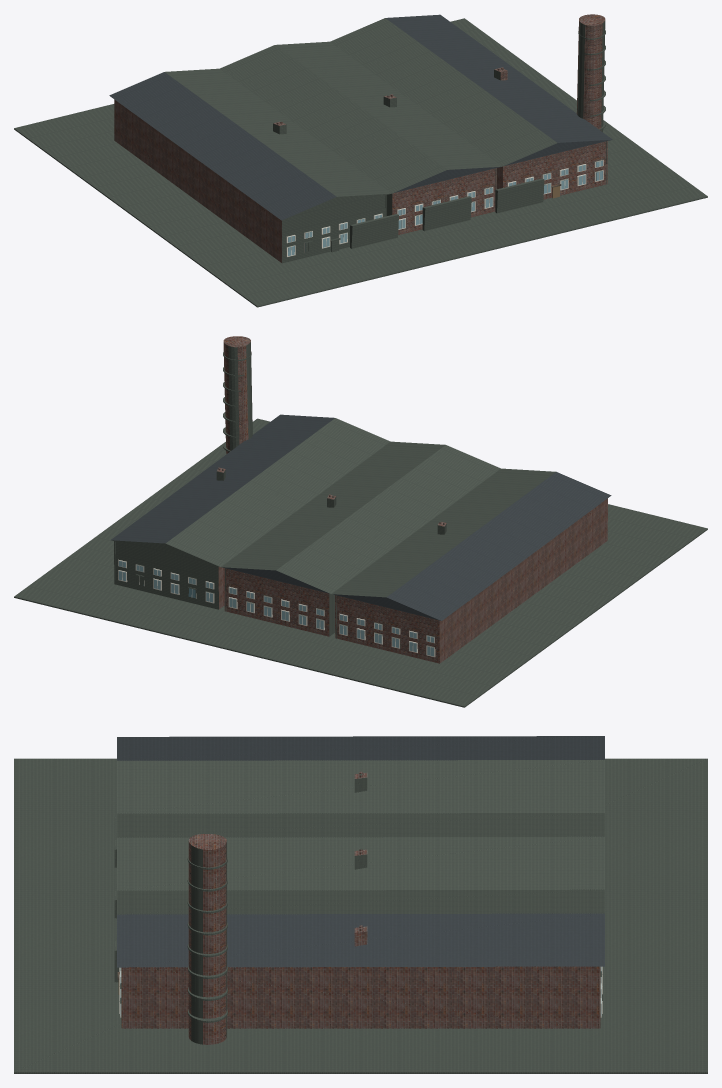
Rendered from damaged2.gltf.
3 views of the same model, one above another, from view 1: azimuth 30°, elevation 25°; view 2: azimuth 150°, elevation 25°; view 3: azimuth 270°, elevation 25° (orthographic). The views are drawn at different scales.
Parts seen in each view (by area): view 1: britainfactory_damaged2; view 2: britainfactory_damaged2; view 3: britainfactory_damaged2.
Part boxes in pixels (x1=…): britainfactory_damaged2: x1=14, y1=14, x2=707, y2=307; britainfactory_damaged2: x1=14, y1=336, x2=707, y2=707; britainfactory_damaged2: x1=14, y1=736, x2=707, y2=1073.
Size of the model in its own units: 155 by 45.88 by 145.
Materials: 8 (5 with a texture image).
